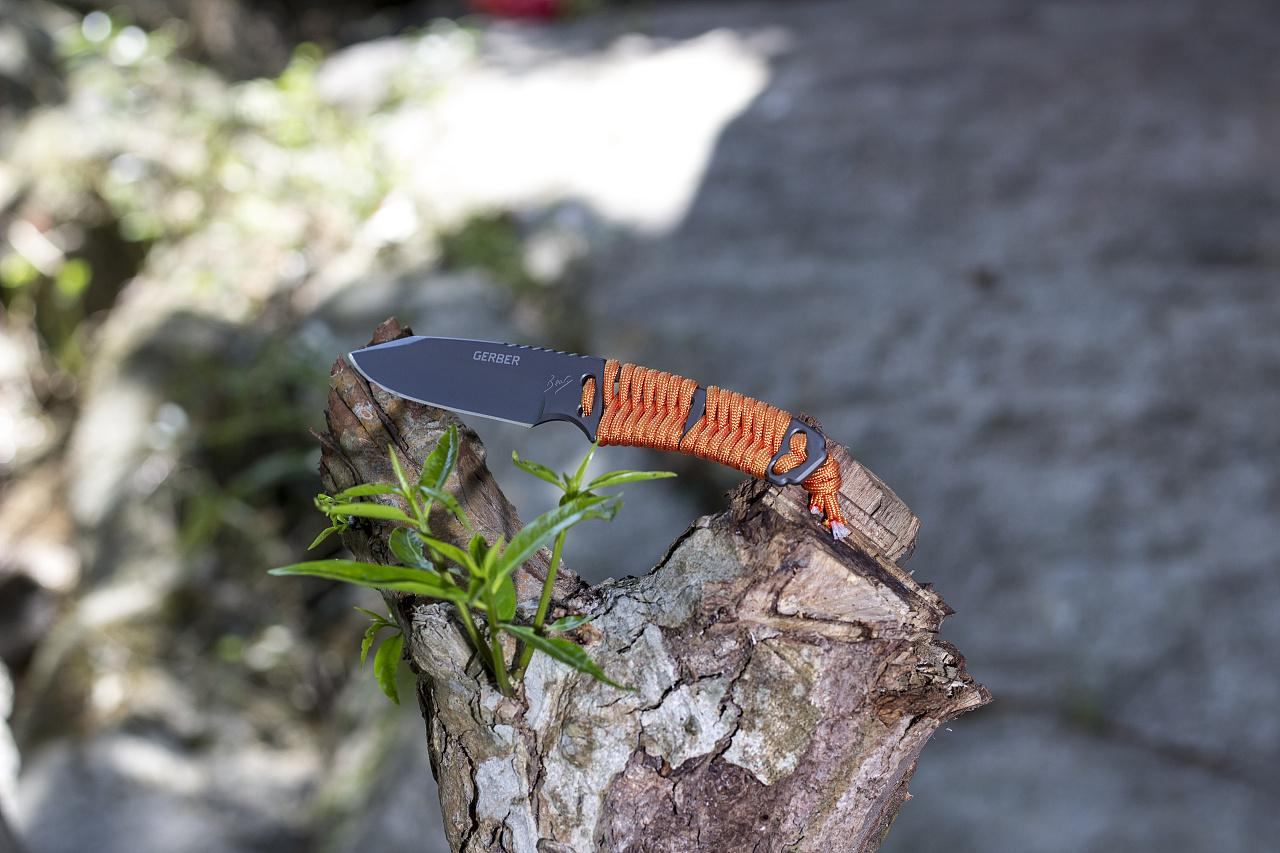knife: (339, 231, 1006, 577)
